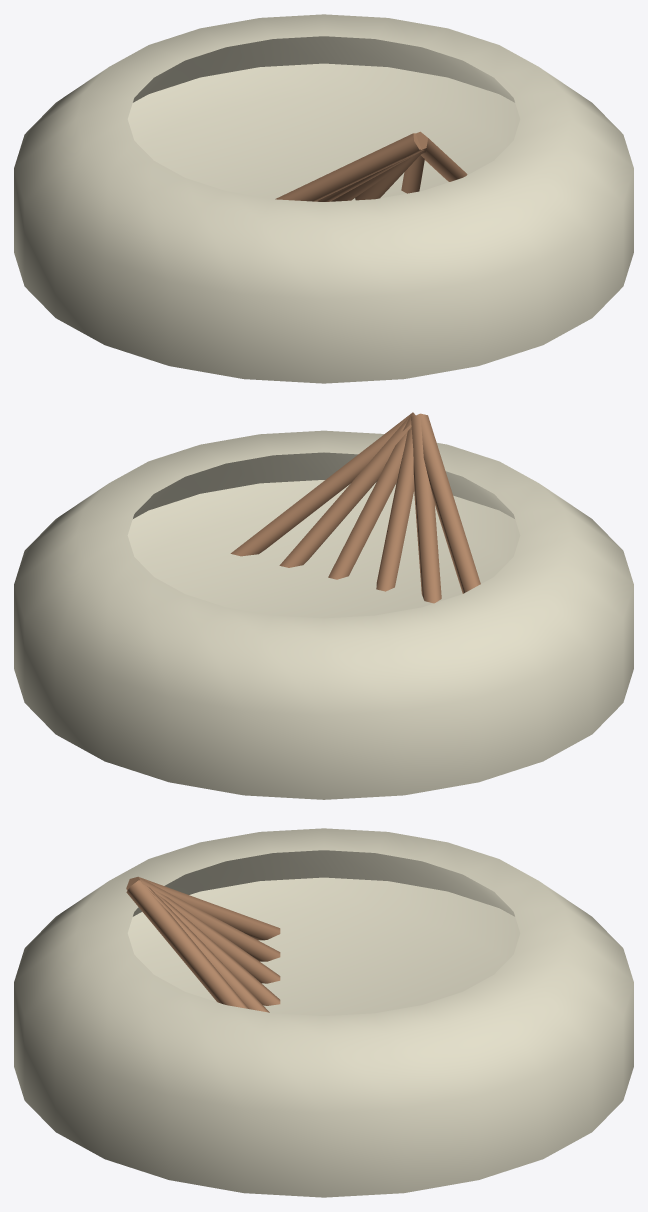
The model's file is primitive-crafting-workshop-shell-scraper-50ae4ef1__21548.glb.
The picture shows the model from 3 angles, top to bottom: view 1: azimuth 30°, elevation 25°; view 2: azimuth 150°, elevation 25°; view 3: azimuth 270°, elevation 25°; orthographic projection.
Parts seen in each view (by area): view 1: shell-scraper; view 2: shell-scraper; view 3: shell-scraper.
Part boxes in pixels (<box>): shell-scraper: <box>14,14,633,383</box>; shell-scraper: <box>14,412,633,799</box>; shell-scraper: <box>14,828,633,1197</box>.
Size of the model in its own units: 0.18 by 0.0626 by 0.18.
